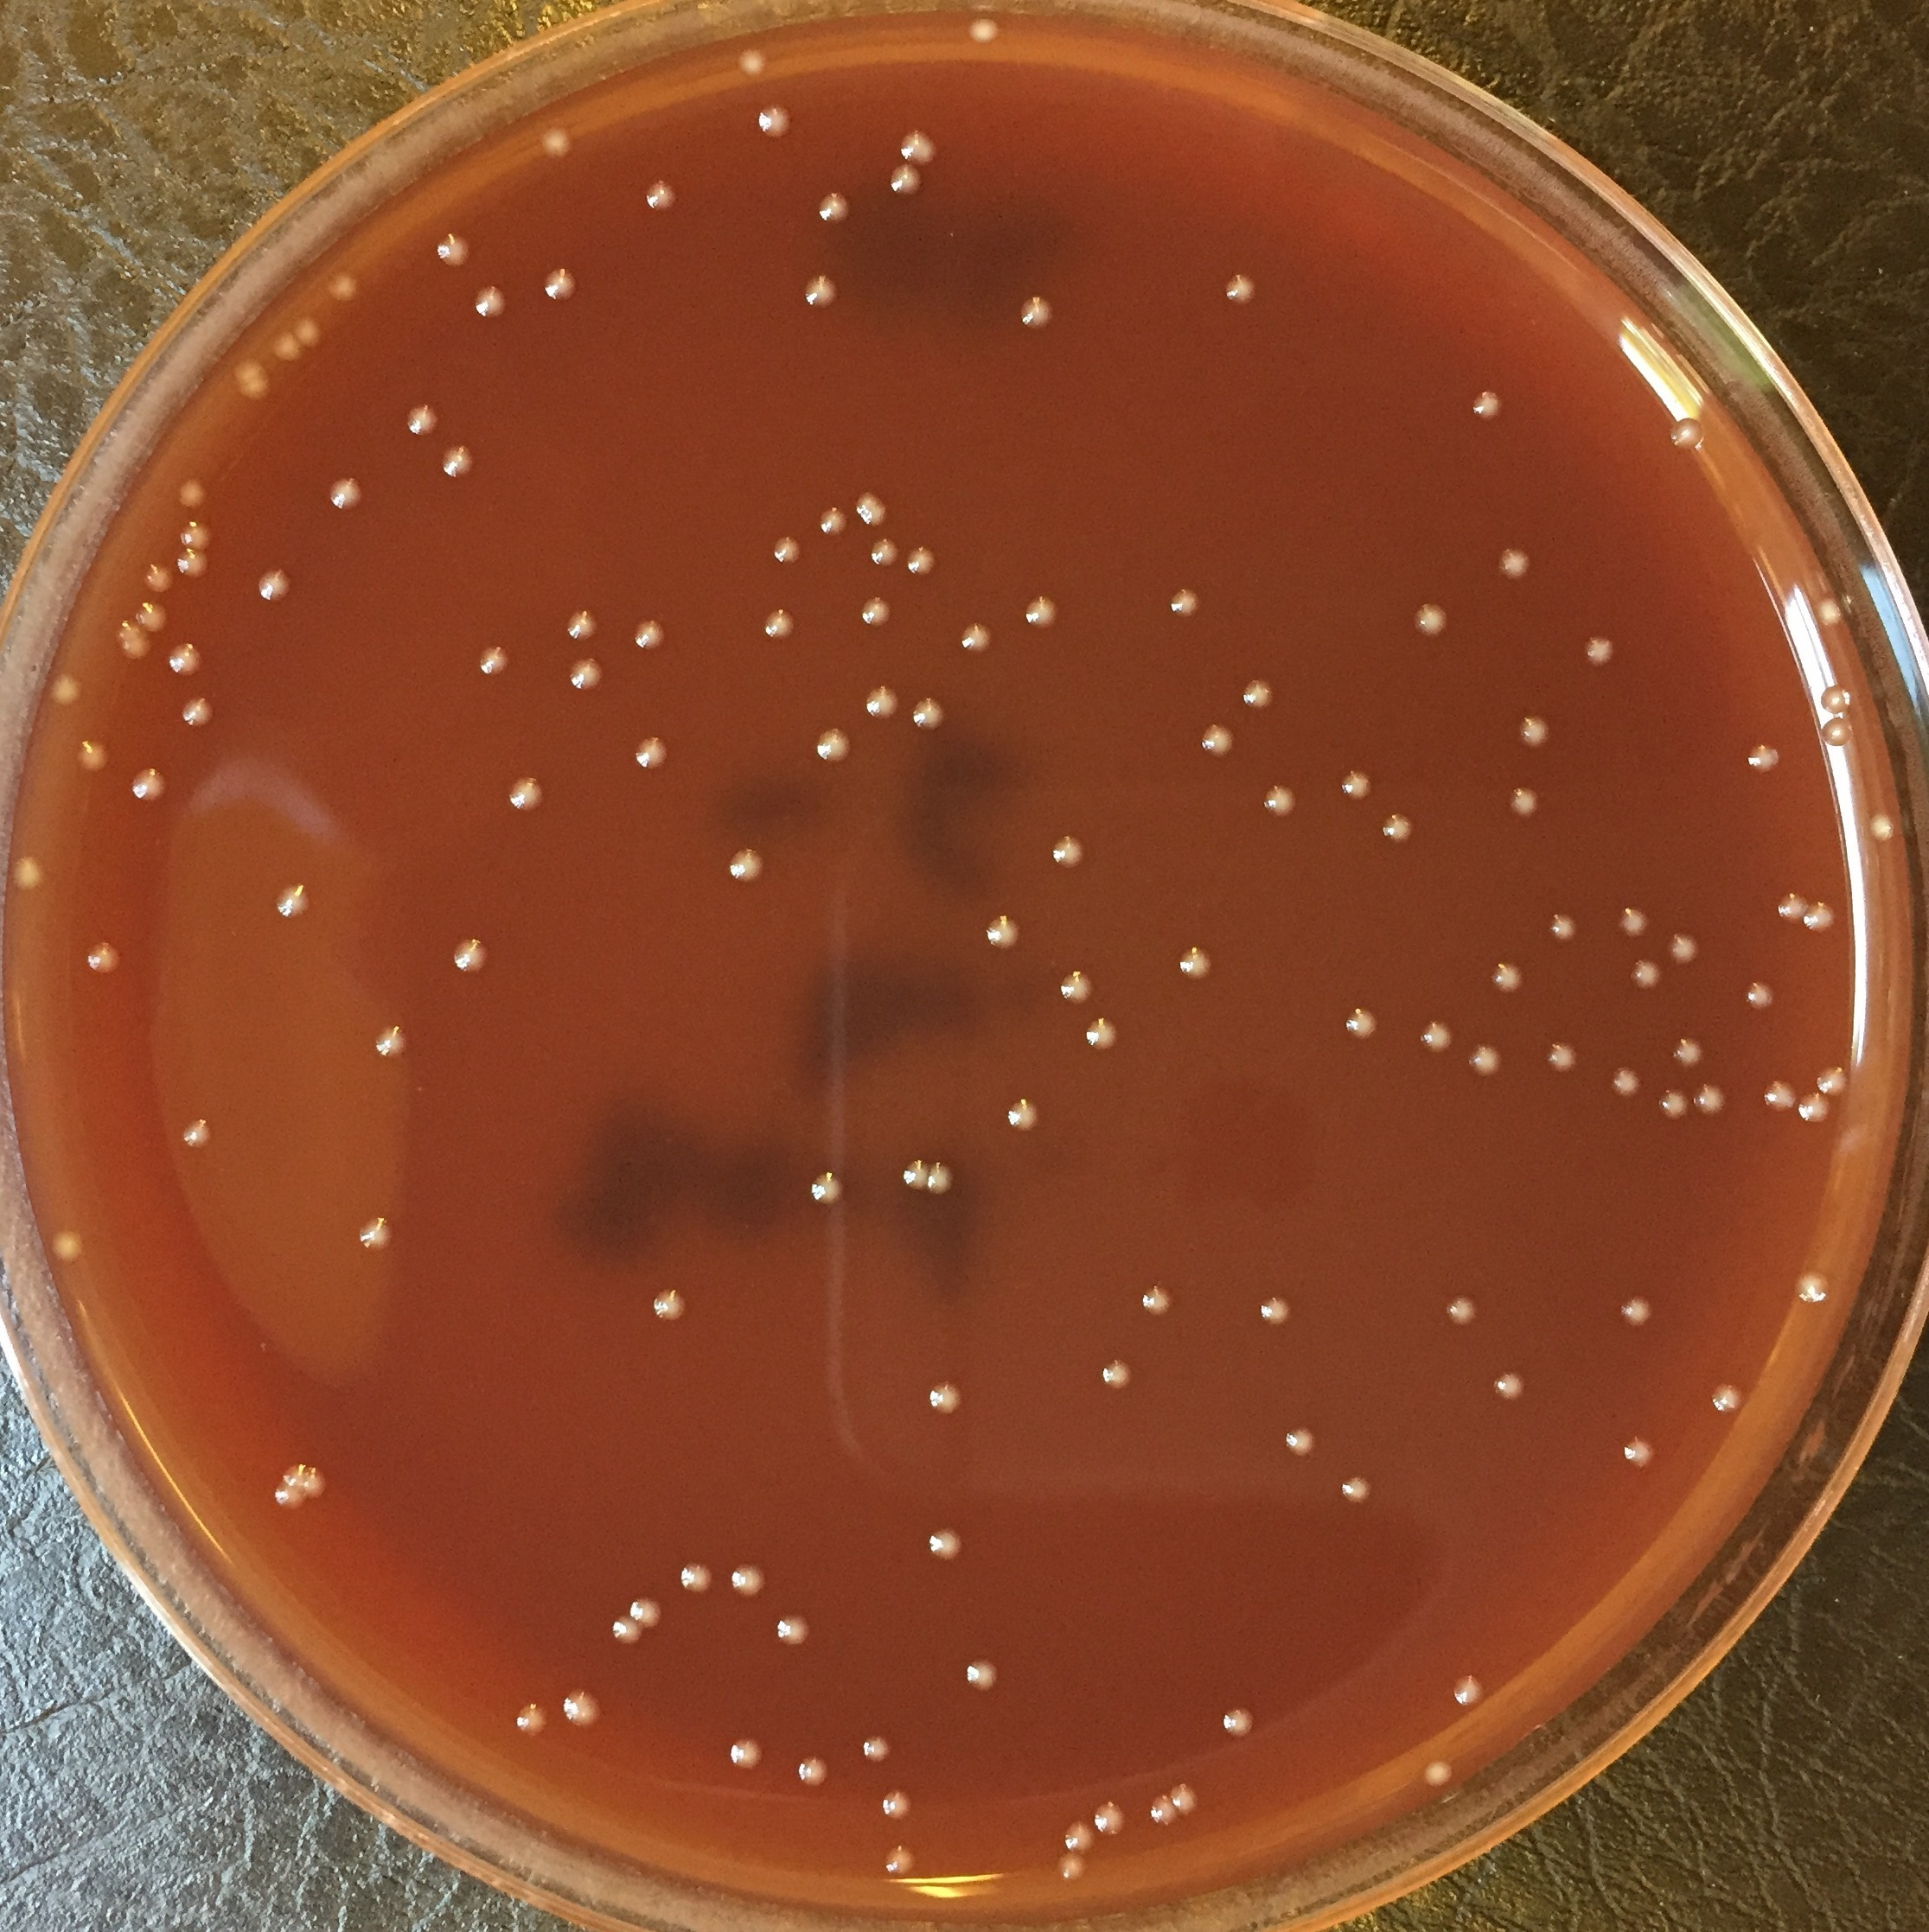sp06: (81, 934, 129, 984), (367, 1017, 412, 1065), (231, 355, 276, 403), (1132, 1284, 1182, 1324), (648, 1282, 692, 1326), (270, 879, 314, 924), (1616, 1287, 1659, 1333), (724, 1731, 767, 1775), (1789, 1266, 1834, 1309), (814, 726, 859, 768), (131, 763, 173, 807), (1706, 1379, 1747, 1425), (449, 936, 496, 975), (555, 1688, 604, 1725), (353, 1211, 396, 1254), (982, 911, 1025, 954), (1793, 1088, 1835, 1130), (507, 774, 549, 816), (115, 620, 157, 662), (288, 311, 330, 353), (1002, 1095, 1046, 1136), (1410, 600, 1454, 641), (1090, 1798, 1129, 1844), (161, 643, 207, 682), (774, 1609, 816, 1649), (926, 1526, 966, 1568), (961, 1653, 1003, 1694), (851, 487, 892, 530), (9, 855, 51, 895), (329, 475, 369, 517), (267, 327, 307, 369), (48, 1226, 87, 1270), (1055, 968, 1099, 1007), (1339, 1005, 1380, 1045), (1514, 713, 1555, 754), (1745, 740, 1786, 781), (806, 1167, 848, 1206), (49, 668, 88, 710), (754, 101, 797, 140), (625, 1591, 669, 1628), (728, 1561, 772, 1598), (641, 177, 685, 214), (177, 1120, 223, 1155), (1046, 834, 1086, 872), (1261, 781, 1300, 821), (1800, 895, 1839, 936), (908, 694, 949, 733), (438, 441, 479, 480), (802, 270, 843, 309), (1666, 929, 1703, 971), (173, 544, 216, 581), (1666, 415, 1708, 452), (429, 230, 473, 265), (1219, 1702, 1258, 1741), (1441, 1289, 1480, 1328), (1618, 1432, 1657, 1471), (1021, 593, 1060, 632), (470, 283, 509, 321), (403, 404, 442, 443), (816, 502, 855, 540), (903, 127, 942, 166), (793, 1755, 834, 1792), (1083, 1015, 1123, 1053), (1507, 781, 1544, 821), (1493, 546, 1533, 583), (472, 645, 512, 682), (629, 616, 669, 653), (537, 125, 574, 166), (926, 1381, 968, 1416), (1237, 673, 1279, 708), (1199, 722, 1242, 758), (74, 735, 110, 777), (881, 1838, 919, 1877), (1615, 904, 1652, 943), (1816, 715, 1855, 752), (864, 683, 901, 722), (859, 593, 897, 630), (565, 655, 606, 691), (728, 844, 763, 885), (677, 1561, 714, 1598), (1581, 630, 1618, 668), (512, 1701, 551, 1736), (1420, 1755, 1459, 1791), (1449, 1672, 1487, 1708), (1281, 1423, 1320, 1459), (1417, 1019, 1456, 1054), (959, 618, 995, 657), (634, 733, 669, 772), (323, 268, 362, 304), (890, 162, 926, 201), (608, 1612, 648, 1646), (1668, 1033, 1708, 1067), (1337, 770, 1380, 802), (541, 267, 583, 298), (254, 569, 297, 600), (878, 1787, 915, 1823), (1062, 1817, 1097, 1854), (1176, 945, 1214, 980), (1627, 957, 1664, 992), (1544, 1038, 1581, 1074), (760, 606, 797, 641), (178, 516, 216, 551), (1337, 1471, 1376, 1505), (1464, 1042, 1503, 1075), (1818, 678, 1851, 717), (1470, 389, 1509, 422), (1101, 1356, 1136, 1392), (1761, 1075, 1797, 1111), (138, 599, 173, 634), (173, 477, 208, 512), (1145, 1791, 1178, 1828), (1742, 980, 1779, 1014), (903, 544, 940, 577), (1023, 293, 1056, 330), (818, 191, 855, 224), (1221, 272, 1258, 306), (1053, 1851, 1092, 1883), (1812, 1065, 1851, 1097), (1164, 585, 1203, 616), (1491, 1369, 1526, 1402), (1380, 809, 1415, 842), (1542, 911, 1577, 945), (772, 533, 806, 569), (1609, 1065, 1646, 1097), (922, 1160, 956, 1194), (1812, 597, 1846, 630), (565, 609, 599, 643), (867, 535, 901, 569), (180, 696, 214, 729), (1260, 1291, 1291, 1326), (1692, 1083, 1728, 1114), (272, 1482, 309, 1512), (862, 1729, 892, 1766), (141, 560, 173, 593), (1489, 961, 1524, 991), (737, 44, 772, 74), (1657, 1088, 1689, 1120), (1171, 1780, 1201, 1814), (968, 16, 1002, 46), (302, 1468, 330, 1501), (901, 1157, 927, 1190), (1775, 892, 1805, 920), (1867, 811, 1897, 837)
